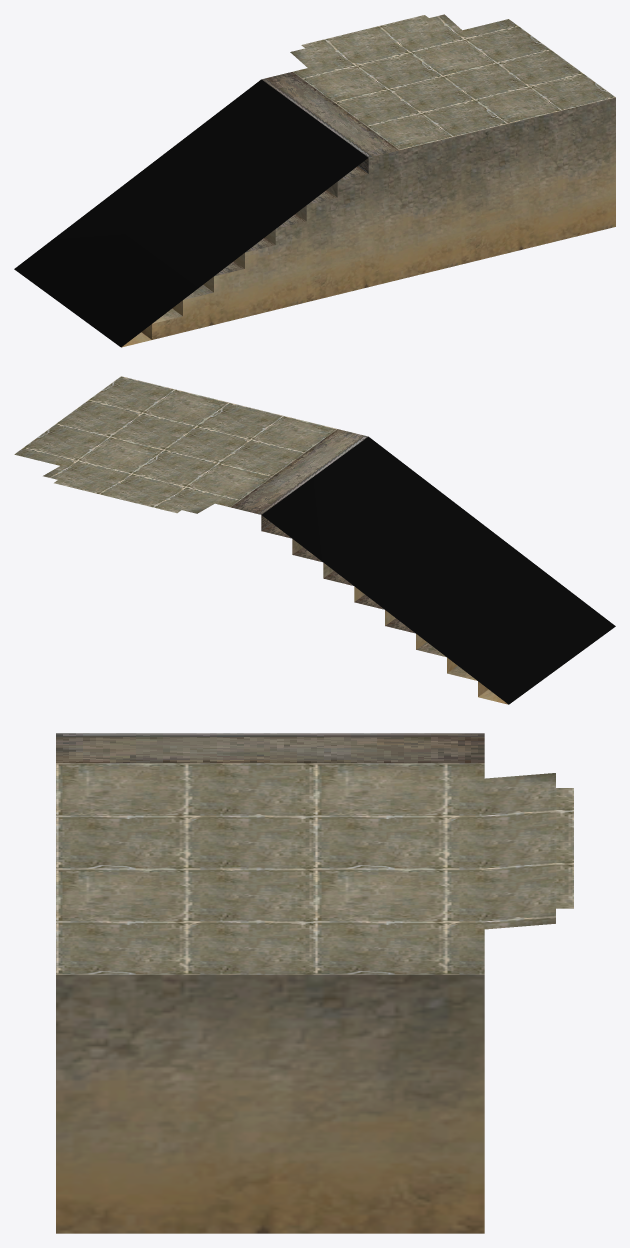
Rendered from M5Z1_VillageExt_05A.glb.
The picture shows the model from 3 angles, top to bottom: view 1: azimuth 30°, elevation 25°; view 2: azimuth 150°, elevation 25°; view 3: azimuth 270°, elevation 25°; orthographic projection. The views are drawn at different scales.
Visible parts, largest first — view 1: M5Z1_VILLAGEEXT_05A; view 2: M5Z1_VILLAGEEXT_05A; view 3: M5Z1_VILLAGEEXT_05A.
Boxes of the visible parts, x1,y1,x2,y2 form: M5Z1_VILLAGEEXT_05A: (14, 14, 615, 347); M5Z1_VILLAGEEXT_05A: (14, 376, 615, 704); M5Z1_VILLAGEEXT_05A: (56, 733, 573, 1233).
Size of the model in its own units: 8 by 2.04 by 3.62.
Materials: 4 (3 with a texture image).
